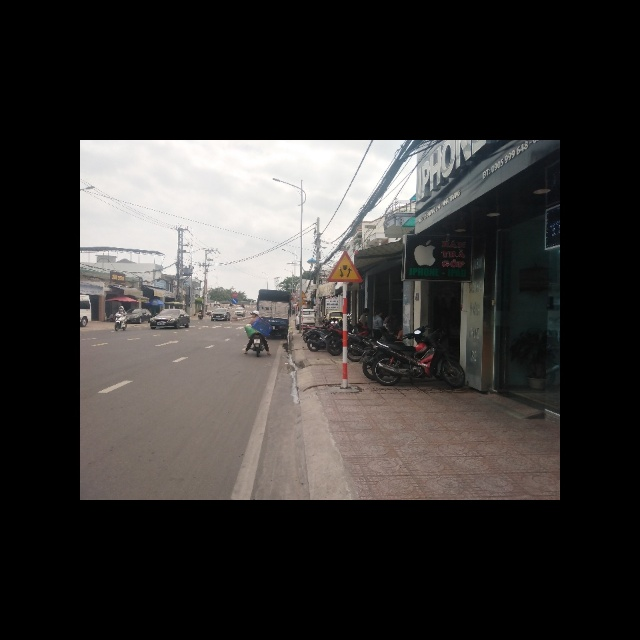Đường đôi: (325, 250, 362, 284)
